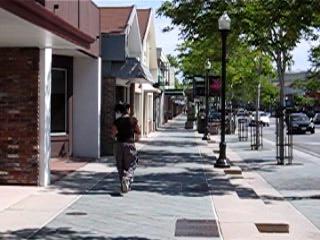person: (112, 102, 143, 196), (111, 102, 142, 196), (113, 102, 144, 196), (112, 101, 143, 195), (112, 103, 143, 197)
target_negative: (46, 87, 167, 146), (84, 231, 232, 239), (192, 229, 273, 234), (270, 20, 293, 37), (78, 224, 270, 225), (293, 112, 309, 116)
